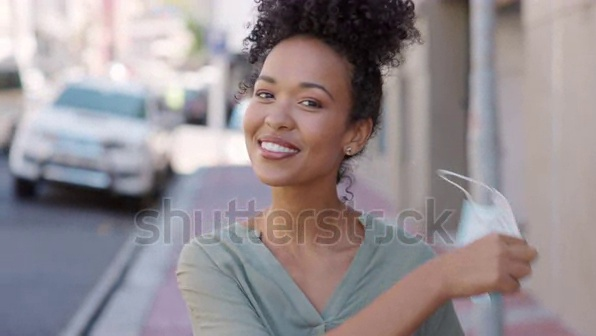No Mask: (234, 125, 345, 194)
